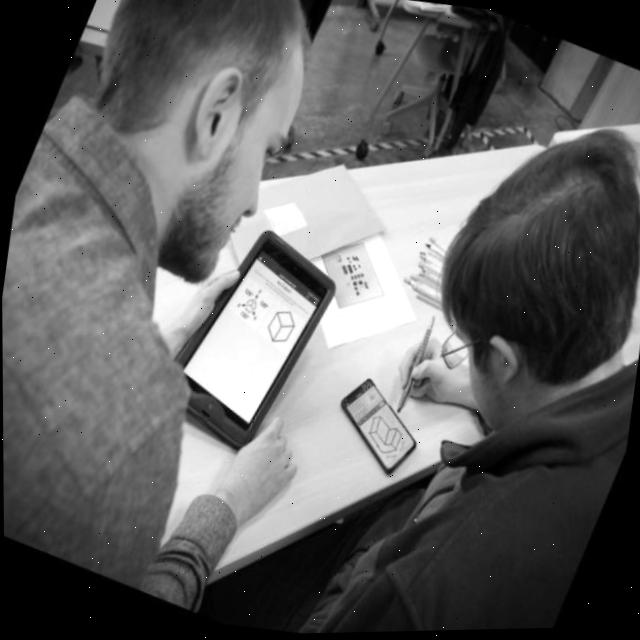phone: (146, 206, 354, 471), (318, 368, 437, 487)
